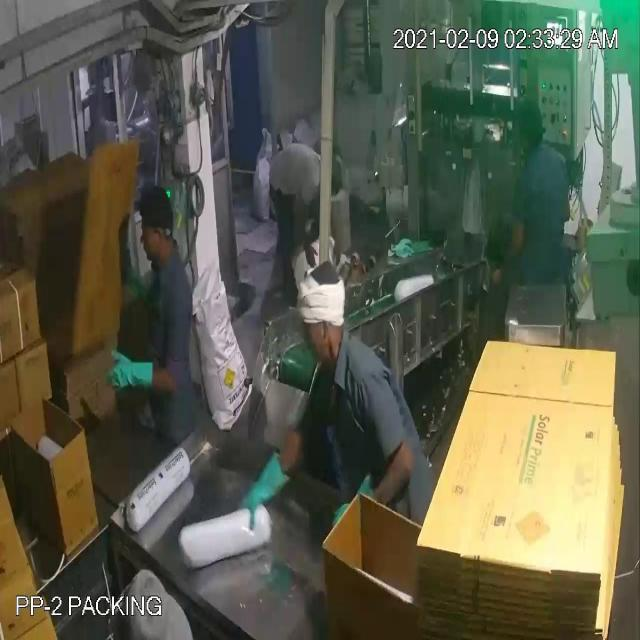Gloves: (32, 82, 308, 494)
